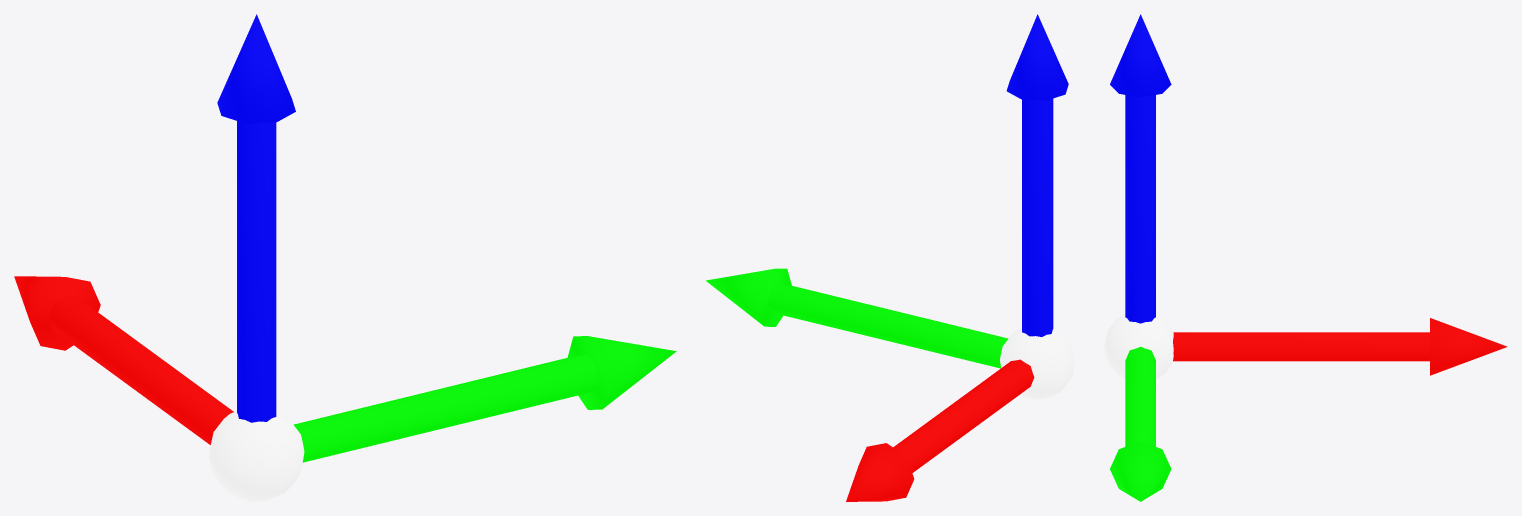
The model's file is gizmo.glb.
3 renders of one model, left to right at view 1: azimuth 30°, elevation 25°; view 2: azimuth 150°, elevation 25°; view 3: azimuth 270°, elevation 25°, orthographic. The views are drawn at different scales.
Parts seen in each view (by area): view 1: Cylinder.001, Cylinder, Cylinder.002, Sphere, Cone, Cone.001, Cone.002; view 2: Cylinder.001, Cylinder, Cylinder.002, Sphere, Cone, Cone.002, Cone.001; view 3: Cylinder.002, Cylinder, Cylinder.001, Sphere, Cone, Cone.001, Cone.002.
Boxes of the visible parts, x1,y1,x2,y2 form: Cylinder.001: (294, 354, 597, 462); Cylinder: (237, 121, 276, 422); Cylinder.002: (48, 295, 233, 444); Sphere: (208, 411, 304, 501); Cone: (217, 14, 295, 123); Cone.001: (567, 336, 676, 409); Cone.002: (14, 276, 100, 350); Cylinder.001: (768, 283, 1008, 368); Cylinder: (1022, 98, 1053, 336); Cylinder.002: (893, 359, 1034, 472); Sphere: (1000, 328, 1075, 399); Cone: (1006, 14, 1068, 100); Cone.002: (846, 443, 914, 501); Cone.001: (706, 268, 791, 326); Cylinder.002: (1173, 332, 1429, 361); Cylinder: (1125, 95, 1155, 323); Cylinder.001: (1125, 346, 1155, 446); Sphere: (1104, 314, 1173, 378); Cone: (1110, 14, 1171, 97); Cone.001: (1110, 441, 1171, 501); Cone.002: (1430, 318, 1507, 375).
Bounding box in the file's own units: 4.33 × 4.33 × 4.33.
